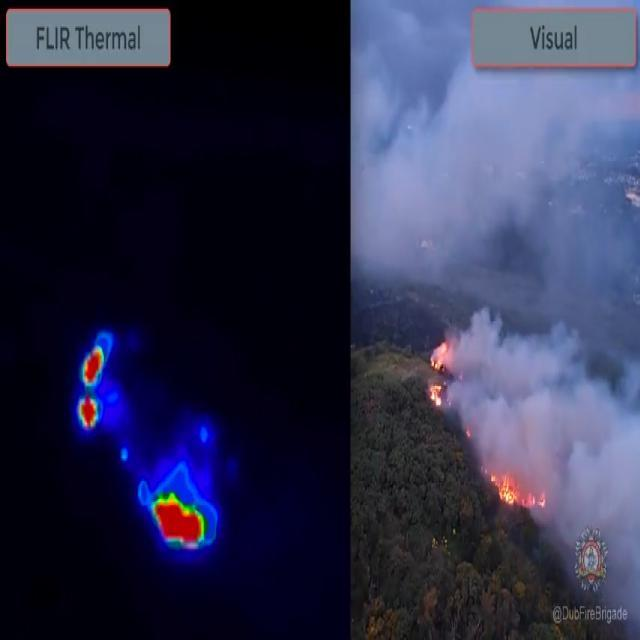fire: (152, 496, 208, 551), (78, 344, 108, 436)
